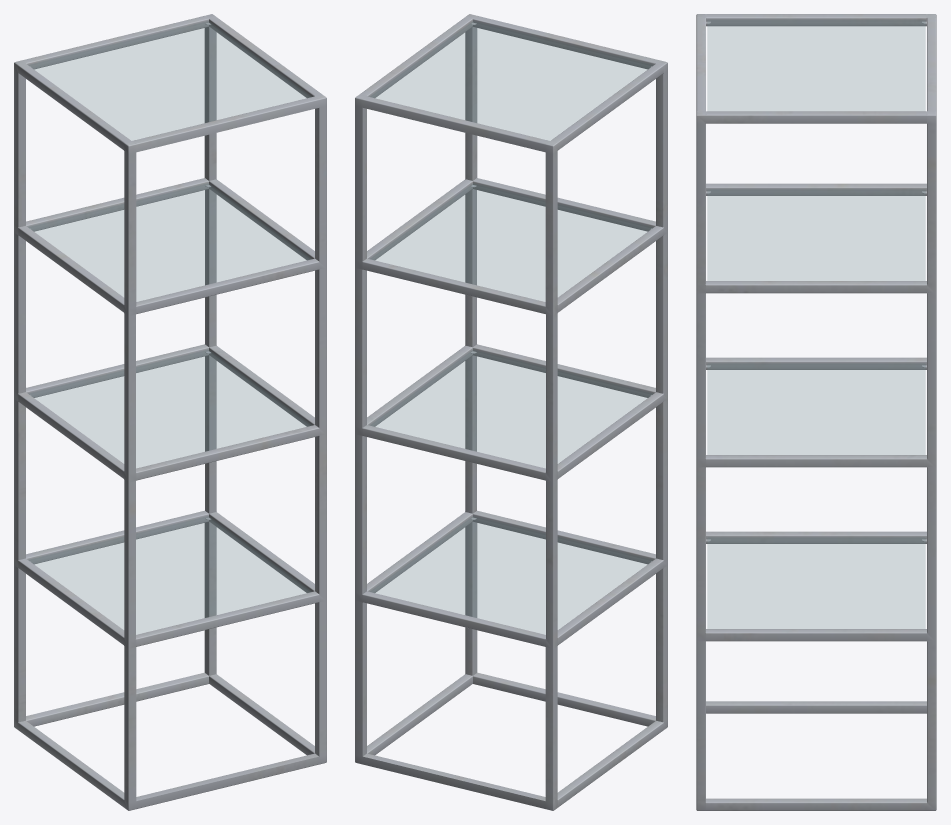
File: glass_display_case.glb
3 views of the same model, side by side, from view 1: azimuth 30°, elevation 25°; view 2: azimuth 150°, elevation 25°; view 3: azimuth 270°, elevation 25° (orthographic). The views are drawn at different scales.
Visible parts, largest first — view 1: SHOP_Object_3, SHOP_Object_2; view 2: SHOP_Object_3, SHOP_Object_2; view 3: SHOP_Object_2, SHOP_Object_3.
Part boxes in pixels (x1=…): SHOP_Object_3: x1=14, y1=14, x2=326, y2=810; SHOP_Object_2: x1=29, y1=21, x2=311, y2=634; SHOP_Object_3: x1=355, y1=14, x2=667, y2=810; SHOP_Object_2: x1=370, y1=21, x2=652, y2=634; SHOP_Object_2: x1=707, y1=20, x2=925, y2=628; SHOP_Object_3: x1=696, y1=14, x2=936, y2=810.
Size of the model in its own units: 0.6639 by 2.12 by 0.6639.
Materials: 1 (1 with a texture image).
